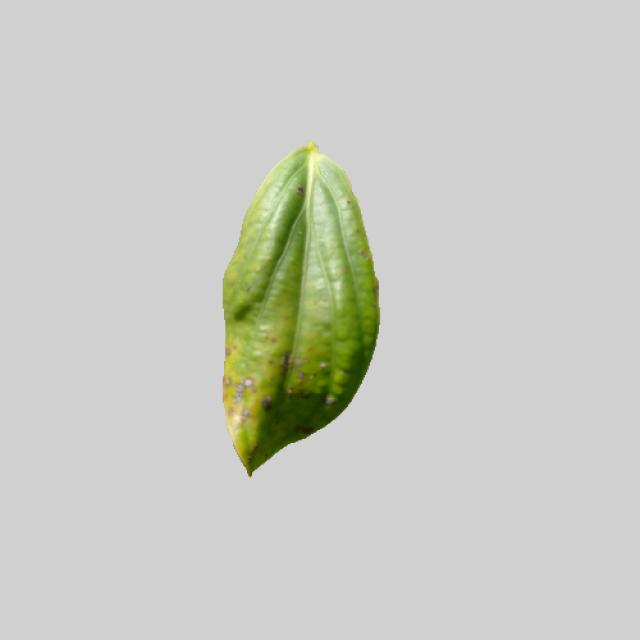yellow-mottle-virus: (205, 133, 392, 476)
